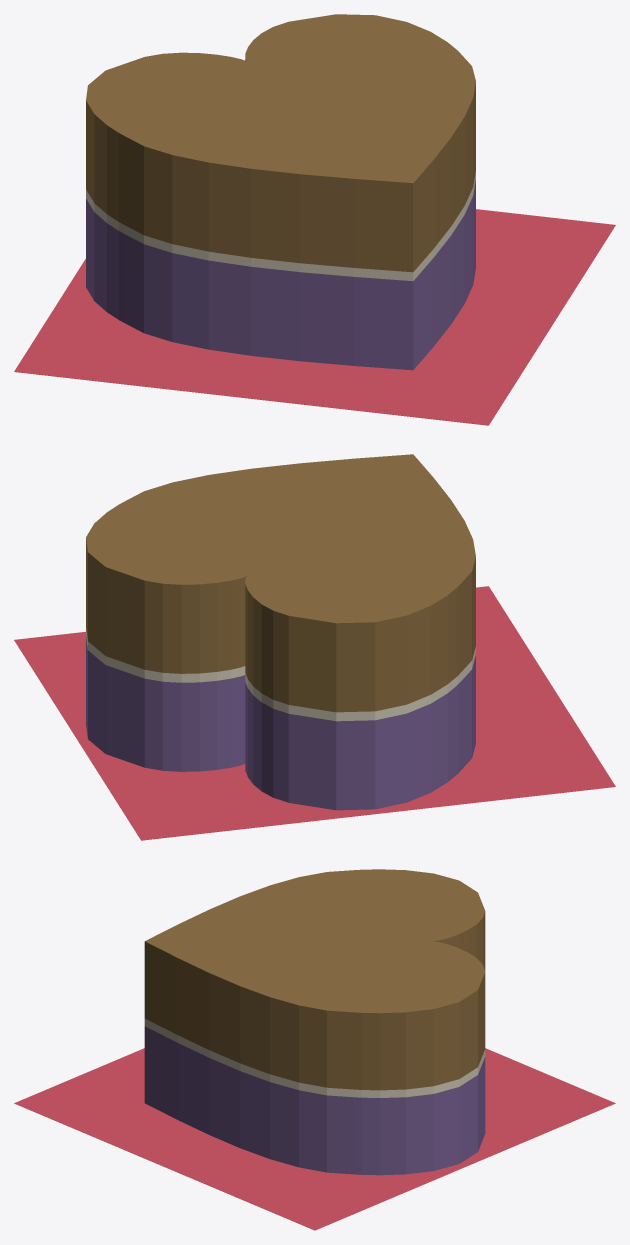
Rendered from UVC.glb.
The picture shows the model from 3 angles, top to bottom: view 1: azimuth 30°, elevation 25°; view 2: azimuth 150°, elevation 25°; view 3: azimuth 270°, elevation 25°; orthographic projection. The views are drawn at different scales.
Visible parts, largest first — view 1: Mesh_Mesh_head_geo.001_lambert2SG.001; view 2: Mesh_Mesh_head_geo.001_lambert2SG.001; view 3: Mesh_Mesh_head_geo.001_lambert2SG.001.
Boxes of the visible parts, <box> form: Mesh_Mesh_head_geo.001_lambert2SG.001: <box>14,14,615,425</box>; Mesh_Mesh_head_geo.001_lambert2SG.001: <box>14,454,615,840</box>; Mesh_Mesh_head_geo.001_lambert2SG.001: <box>14,869,615,1230</box>.
Bounding box in the file's own units: 0.0354 × 0.0105 × 0.0354.
